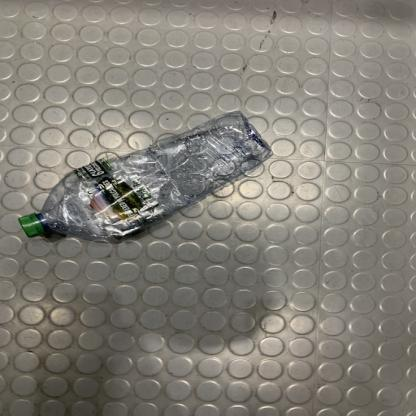trash: (18, 111, 274, 250)
